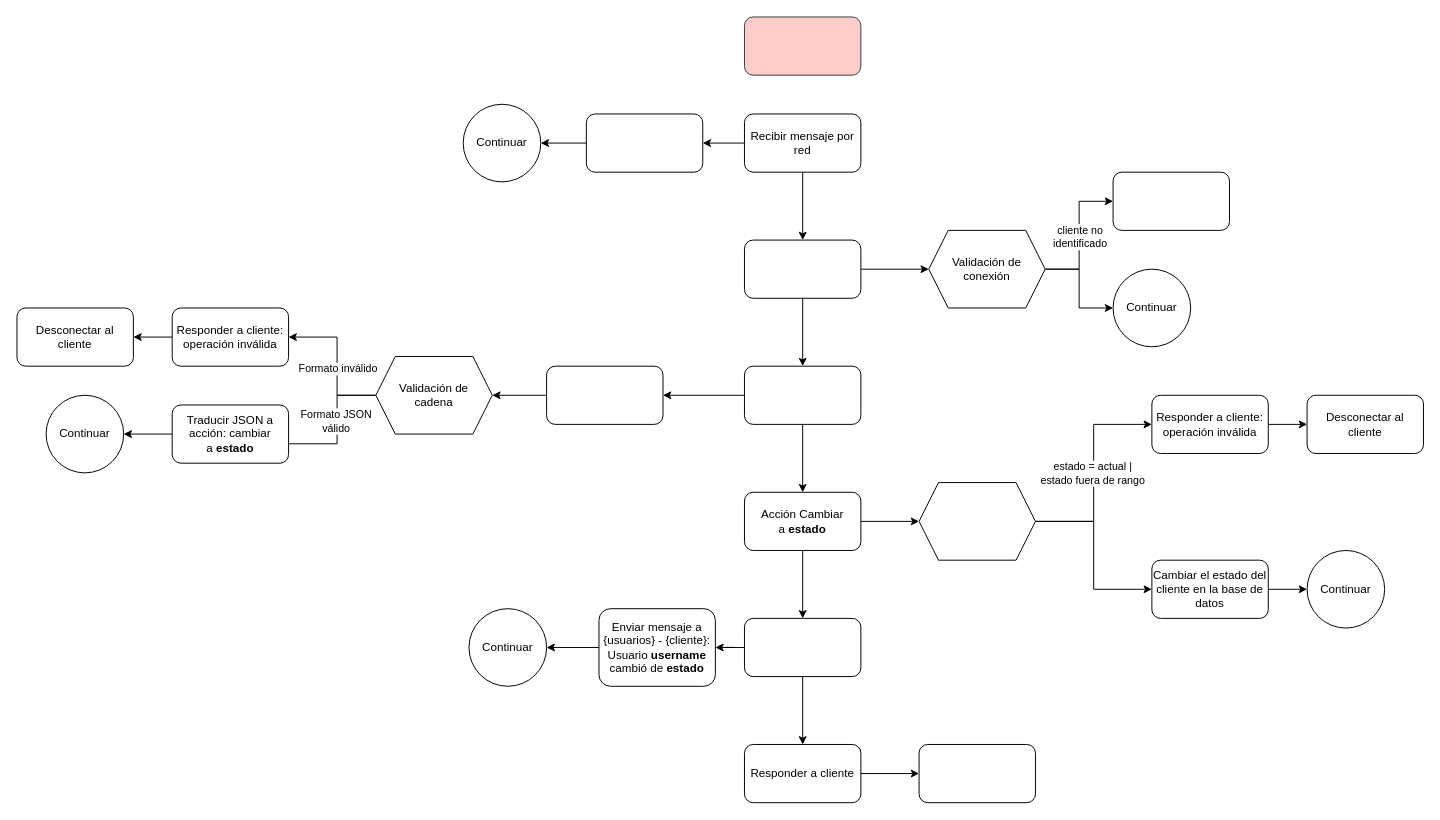
Image size: 1440x820. Some labels were removed from this diagram. Here are the shapes that lost their labels. From the top down, the centre of each, then its label:
(802,45): Servidor: Cambiar estado
(644,142): Extraer bytes del mensaje
(1170,200): Responder a cliente: operación inválida, usuario no identificado
(802,268): Validar conexión
(604,394): Traducir bytes a cadena
(802,394): Traducir mensaje -> acción
(976,521): Validación de estado
(802,647): Notificar a usuarios
(976,773): Sin respuesta al cliente
